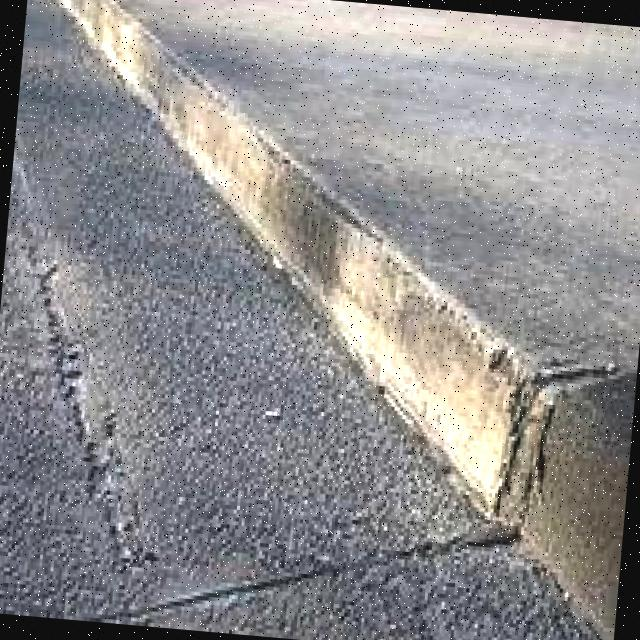curb: (316, 217, 640, 640), (166, 77, 399, 308), (29, 1, 210, 139)
